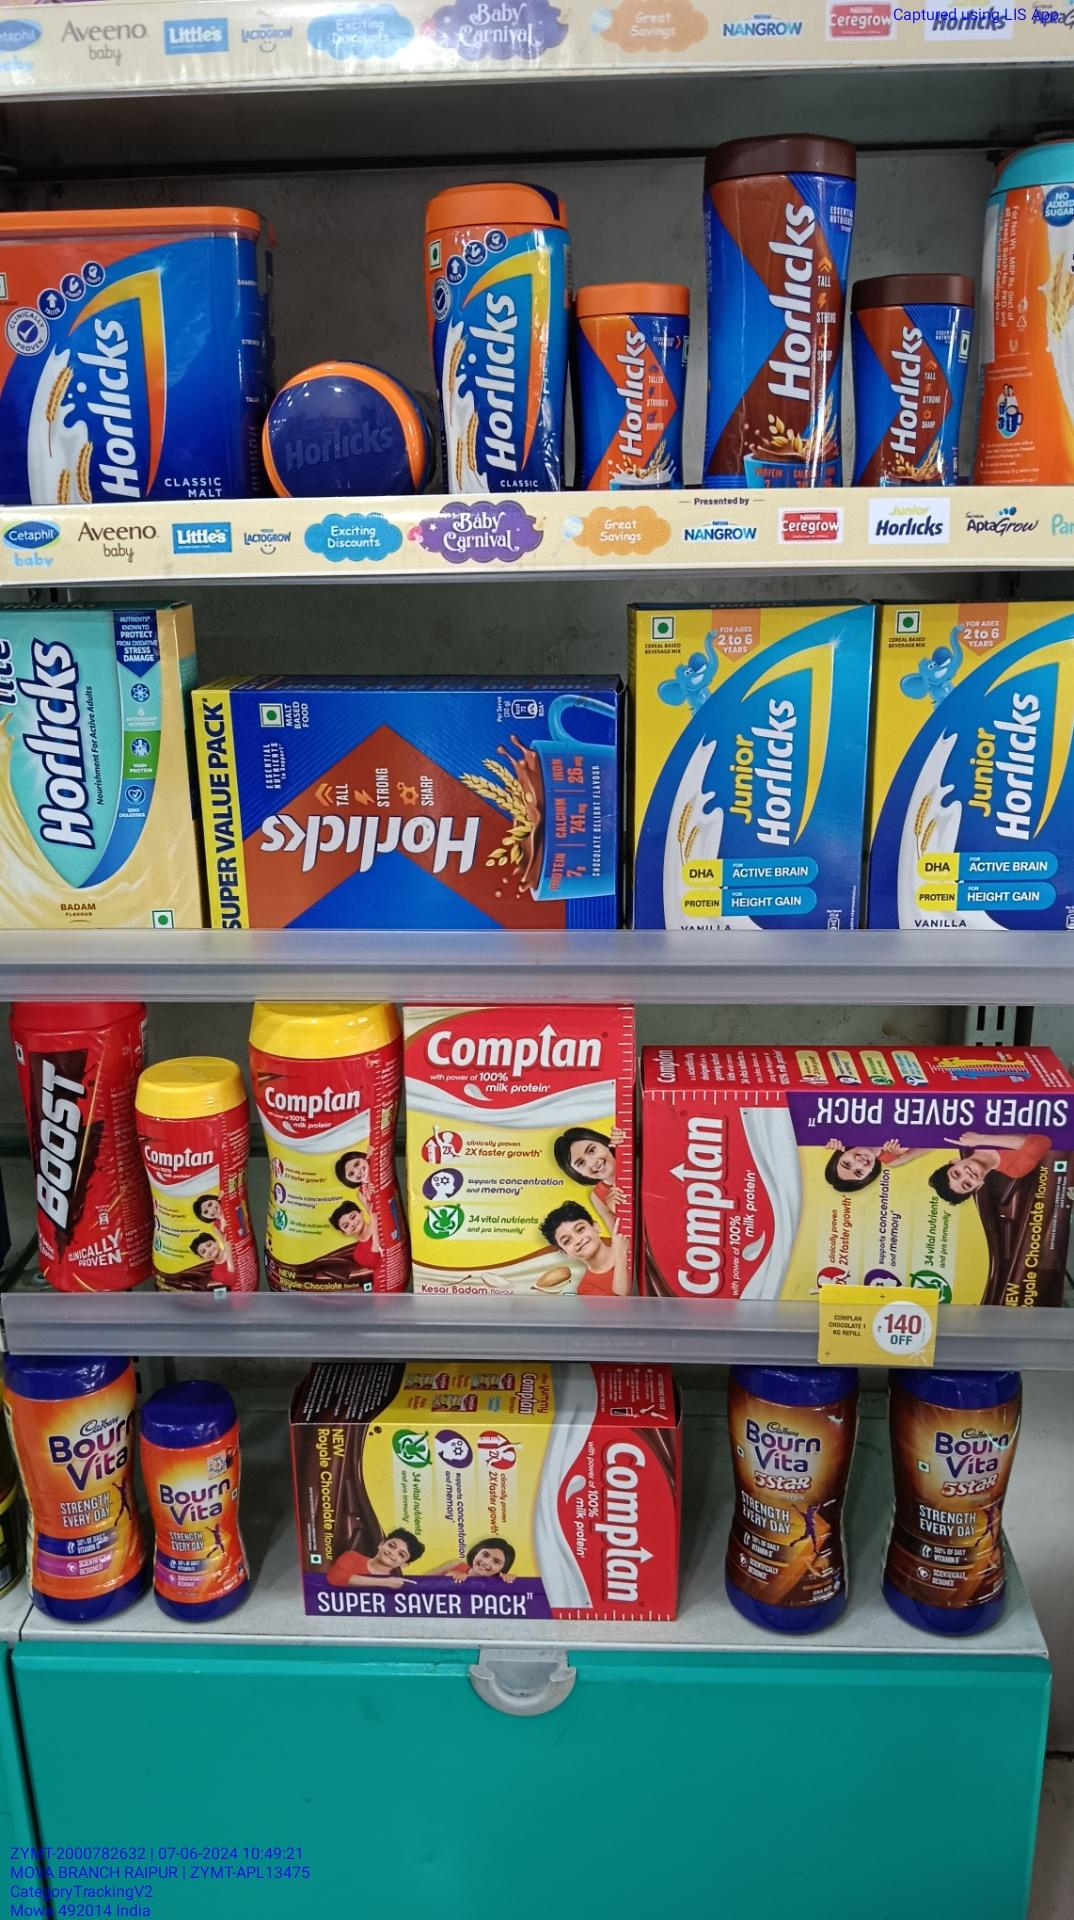BOURN_VITA_FIVE_STAR_MAGIC_500_G_JAR: (736, 1364, 860, 1621), (899, 1369, 1023, 1618)
COMPLAN_CHOCOLATE_200_GMS_JAR: (149, 1060, 244, 1287)
COMPLAN_CHOCOLATE_500_GMS_JAR: (263, 1004, 402, 1290)
HORLICK_CLASSIC_MALT_500_G_JAR: (429, 186, 565, 497)
